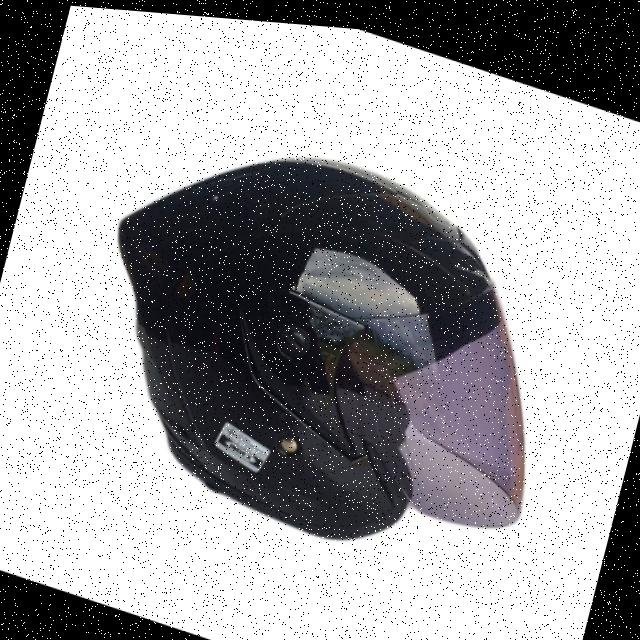helmet: (49, 75, 600, 606)
